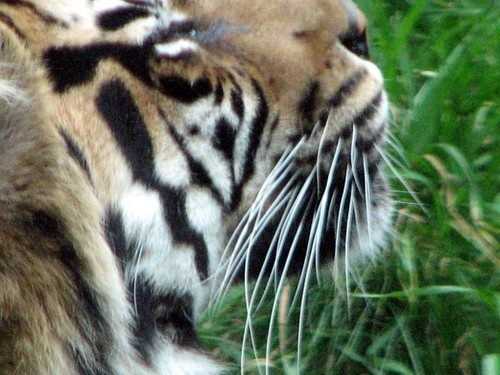tigre: (4, 1, 401, 374)
